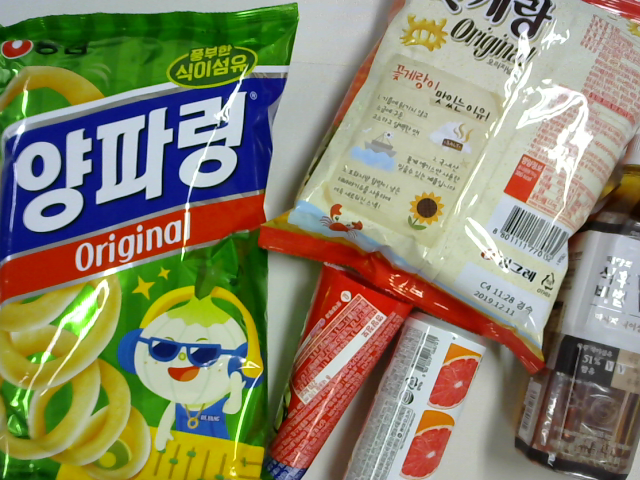Crabrang: (257, 1, 640, 377)
Demisoda_Grapefruit_Can_250ml: (342, 307, 489, 480)
Oninon_Ring: (1, 3, 302, 479)
Post-meal_recipe_W_tea_500ml: (517, 134, 640, 479)
World_Cone_Banila: (265, 262, 417, 480)
